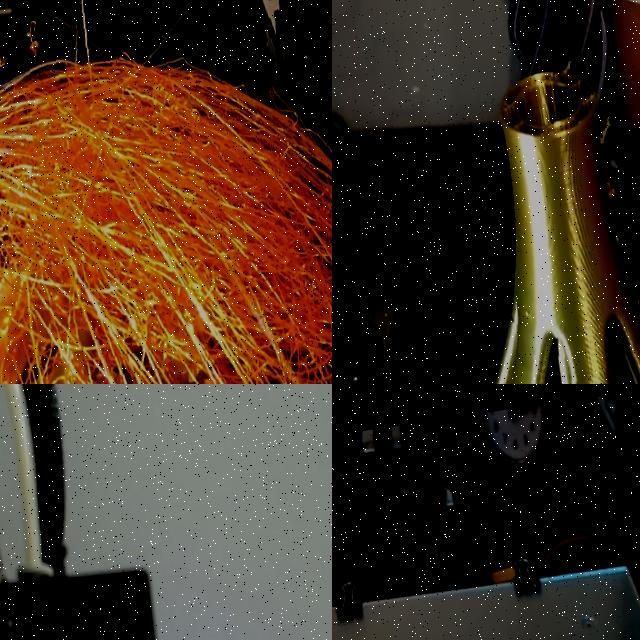spaghetti: (0, 0, 332, 384), (597, 110, 616, 150), (559, 52, 574, 72)
